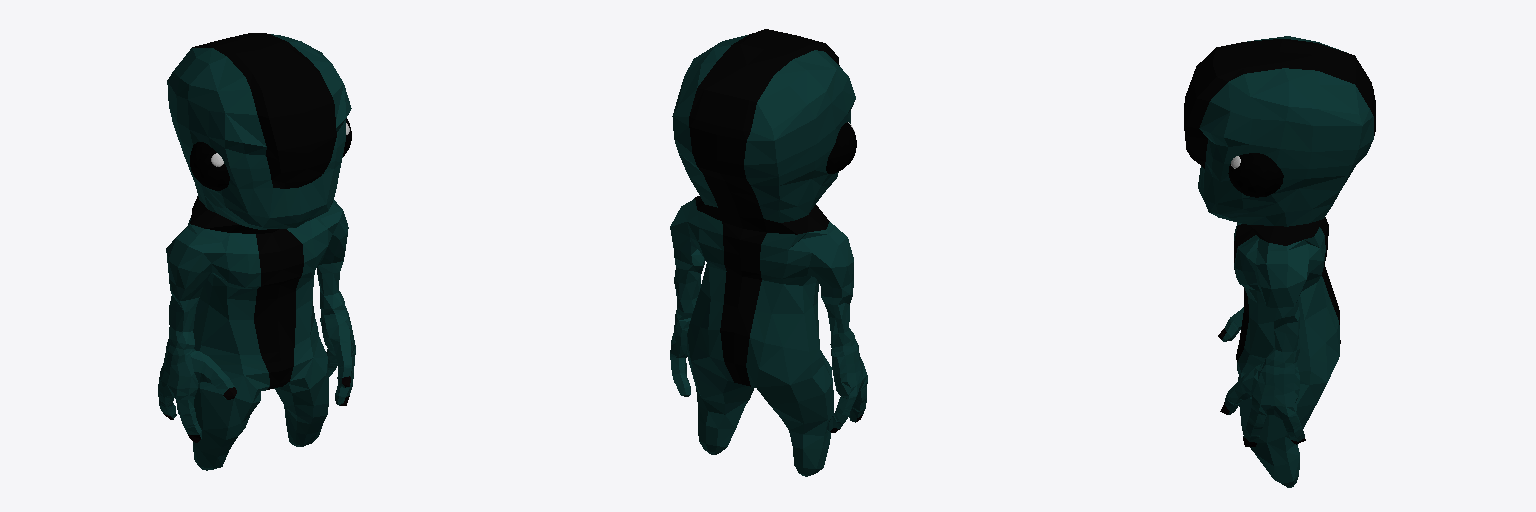
The model's file is alien2.obj.
The picture shows the model from 3 angles: view 1: azimuth 30°, elevation 25°; view 2: azimuth 150°, elevation 25°; view 3: azimuth 270°, elevation 25°; orthographic projection.
Visible parts, largest first — view 1: BaseAlien_Cylinder.002; view 2: BaseAlien_Cylinder.002; view 3: BaseAlien_Cylinder.002.
Boxes of the visible parts, x1,y1,x2,y2 form: BaseAlien_Cylinder.002: [158, 33, 355, 470]; BaseAlien_Cylinder.002: [670, 29, 867, 476]; BaseAlien_Cylinder.002: [1184, 36, 1375, 487].
Bounding box in the file's own units: 1.38 × 2.91 × 1.23.